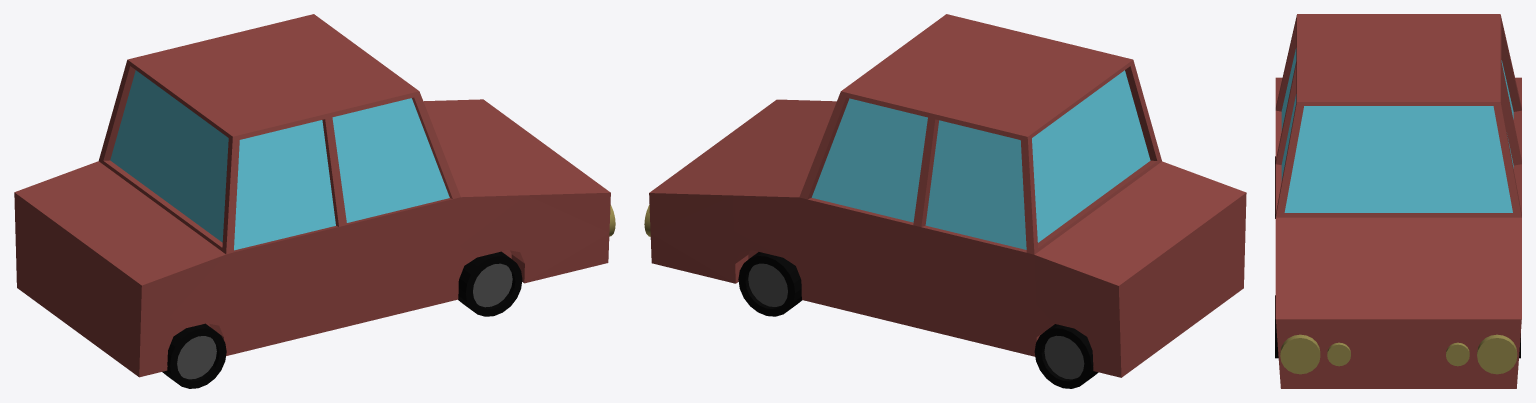
The model's file is Enemy Car Model.fbx.
3 views of the same model, side by side, from view 1: azimuth 30°, elevation 25°; view 2: azimuth 150°, elevation 25°; view 3: azimuth 270°, elevation 25° (orthographic). The views are drawn at different scales.
Parts seen in each view (by area): view 1: pCube1, pCylinder7, pCylinder6; view 2: pCube1, pCylinder8, pCylinder9; view 3: pCube1, pCylinder1, pCylinder4, pCylinder3, pCylinder2.
Boxes of the visible parts, left/top/right/bottom form: pCube1: left=14, top=14, right=610, bottom=377; pCylinder7: left=458, top=251, right=522, bottom=316; pCylinder6: left=162, top=323, right=226, bottom=388; pCube1: left=649, top=14, right=1246, bottom=377; pCylinder8: left=738, top=252, right=802, bottom=316; pCylinder9: left=1034, top=324, right=1098, bottom=388; pCube1: left=1275, top=14, right=1521, bottom=388; pCylinder1: left=1477, top=334, right=1517, bottom=374; pCylinder4: left=1280, top=334, right=1320, bottom=374; pCylinder3: left=1327, top=342, right=1350, bottom=366; pCylinder2: left=1446, top=342, right=1469, bottom=366.
Size of the model in its own units: 7.54 by 3.51 by 3.51.
